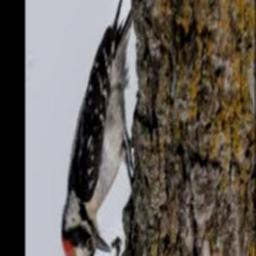Woodpecker: (60, 0, 134, 256)
